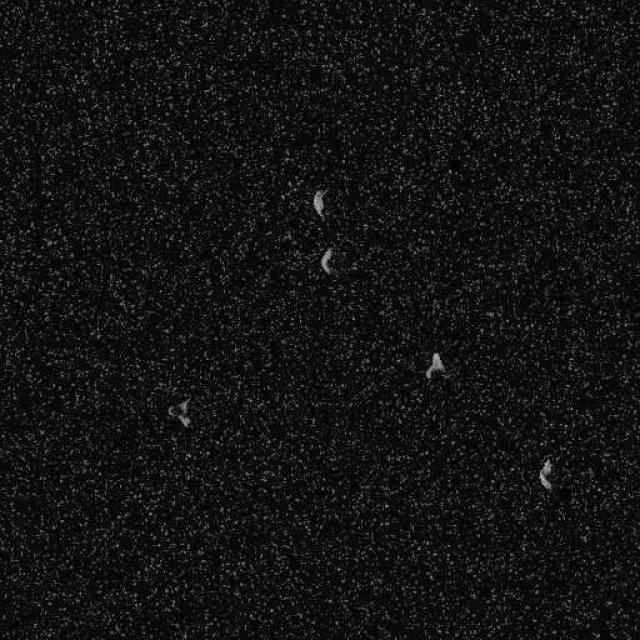D2: (166, 397, 192, 428), (424, 350, 446, 380), (538, 458, 554, 490), (318, 246, 334, 274), (312, 188, 326, 218)
